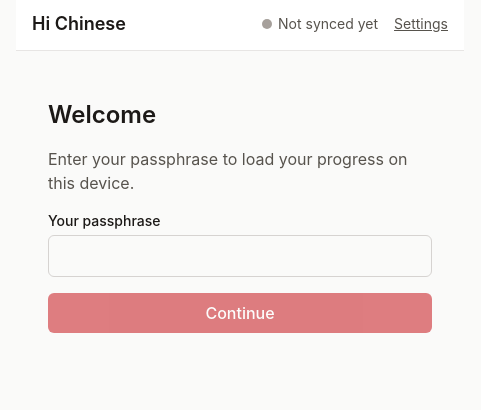
Test: app shell › rejects a wrong passphrase without offering to continue offline
Type "nope" into the password field labelled "Your passphrase". click: (240, 256)
box: [48,235,432,277]
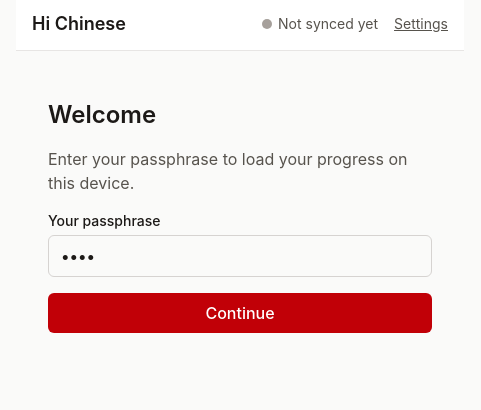
Click the button "Continue". click: (240, 313)
box: [48,293,432,333]
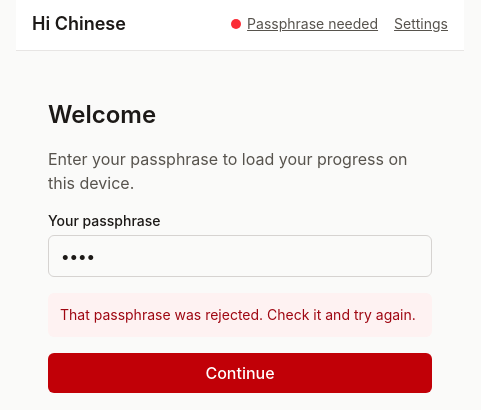
Expected: the message shows "rejected", [60,306,416,323]
